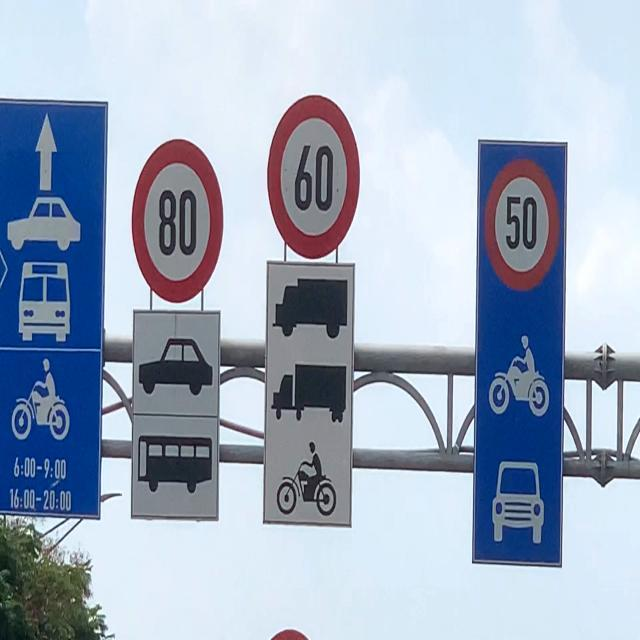127-toc-do-toi-da-50: (481, 158, 559, 290)
127-toc-do-toi-da-60: (268, 94, 360, 258)
127-toc-do-toi-da-80: (132, 136, 225, 300)
